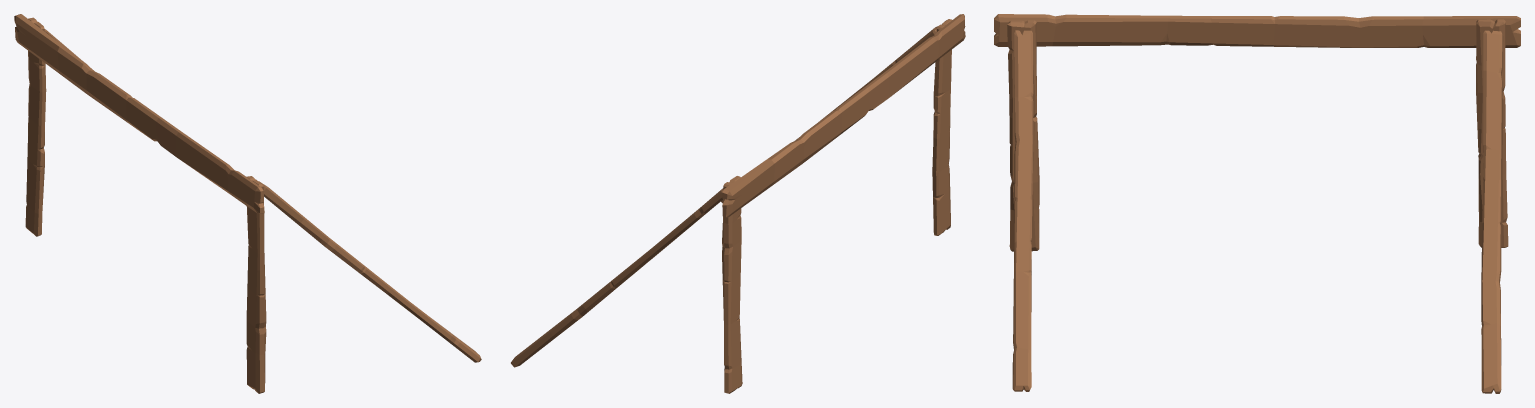
Rendered from but.fbx.
3 views of the same model, side by side, from view 1: azimuth 30°, elevation 25°; view 2: azimuth 150°, elevation 25°; view 3: azimuth 270°, elevation 25° (orthographic). The views are drawn at different scales.
Visible parts, largest first — view 1: pCube125, pCube127, pCube126, pCube129; view 2: pCube125, pCube126, pCube127, pCube128, pCube129; view 3: pCube125, pCube128, pCube129, pCube127, pCube126.
Boxes of the visible parts, x1,y1,x2,y2 form: pCube125: (14,14,264,213); pCube127: (246,176,266,393); pCube126: (25,17,46,236); pCube129: (259,181,481,362); pCube125: (722,14,965,217); pCube126: (722,176,742,393); pCube127: (932,19,951,235); pCube128: (511,188,723,367); pCube129: (721,26,937,203); pCube125: (994,14,1520,47); pCube128: (1481,30,1503,393); pCube129: (1012,30,1033,391); pCube127: (1007,20,1039,251); pCube126: (1476,19,1508,247).
Bounding box in the file's own units: 126 × 123 × 223.
